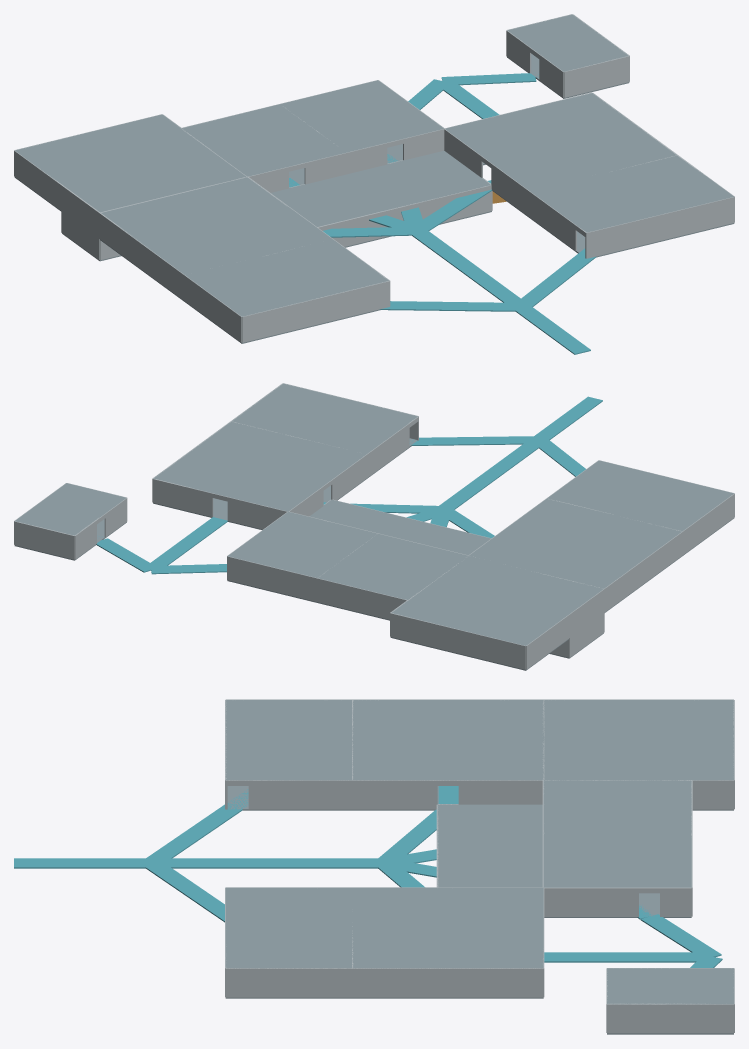
The model's file is rough-shell.glb.
The picture shows the model from 3 angles, top to bottom: view 1: azimuth 30°, elevation 25°; view 2: azimuth 150°, elevation 25°; view 3: azimuth 270°, elevation 25°; orthographic projection. The views are drawn at different scales.
Parts seen in each view (by area): view 1: Ceiling cap dorm, Ceiling cap lab, Ceiling cap generator, Ceiling cap store, Ceiling cap mess, Ceiling cap tunnel, Ceiling cap records, Ceiling cap radio, Wall mess S, Wall store S, Ceiling cap shelter, Wall tunnel S (+23 smaller); view 2: Ceiling cap lab, Ceiling cap dorm, Ceiling cap generator, Ceiling cap store, Ceiling cap mess, Ceiling cap records, Ceiling cap radio, Ceiling cap tunnel, Wall generator N, Ceiling cap shelter, Wall records N, Wall lab W (+22 smaller); view 3: Ceiling cap dorm, Ceiling cap lab, Ceiling cap generator, Ceiling cap mess, Ceiling cap store, Ceiling cap tunnel, Ceiling cap records, Ceiling cap radio, Wall dorm E, Ceiling cap shelter, Wall shelter E, Wall mess E (+17 smaller).
Boxes of the visible parts, x1,y1,x2,y2 form: Ceiling cap dorm: (445, 93, 676, 190); Ceiling cap lab: (101, 177, 332, 275); Ceiling cap generator: (15, 114, 246, 212); Ceiling cap store: (185, 239, 388, 316); Ceiling cap mess: (530, 155, 733, 232); Ceiling cap tunnel: (271, 151, 490, 226); Ceiling cap records: (280, 80, 443, 152); Ceiling cap radio: (182, 104, 345, 176); Wall mess S: (586, 197, 734, 258); Wall store S: (242, 281, 389, 342); Ceiling cap shelter: (507, 14, 628, 71); Wall tunnel S: (317, 185, 492, 246); Ceiling cap lab: (469, 498, 681, 588); Ceiling cap dorm: (153, 421, 365, 511); Ceiling cap generator: (391, 556, 603, 645); Ceiling cap store: (547, 460, 733, 531); Ceiling cap mess: (232, 383, 417, 454); Ceiling cap records: (228, 511, 377, 577); Ceiling cap radio: (318, 534, 468, 599); Ceiling cap tunnel: (309, 499, 490, 555); Wall generator N: (390, 613, 525, 669); Ceiling cap shelter: (15, 483, 126, 535); Wall records N: (227, 556, 317, 601); Wall lab W: (604, 531, 682, 612); Ceiling cap dorm: (353, 887, 543, 968); Ceiling cap lab: (353, 700, 543, 780); Ceiling cap generator: (543, 700, 733, 780); Ceiling cap mess: (225, 887, 352, 968); Ceiling cap store: (225, 700, 352, 780); Ceiling cap tunnel: (437, 804, 542, 887); Ceiling cap records: (543, 834, 691, 887); Ceiling cap radio: (543, 780, 691, 833); Wall dorm E: (353, 968, 543, 997); Ceiling cap shelter: (607, 968, 733, 1004); Wall shelter E: (607, 1003, 733, 1033); Wall mess E: (225, 968, 352, 997).
Size of the model in its own units: 68.16 by 5.66 by 68.08.
